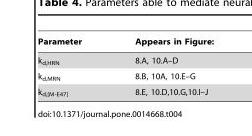table: (37, 36, 213, 96)
table column: (107, 36, 213, 96), (37, 36, 107, 96)
table column header: (37, 36, 213, 50)
table row: (37, 50, 213, 68), (37, 68, 213, 84), (37, 36, 213, 50), (37, 84, 213, 96)
